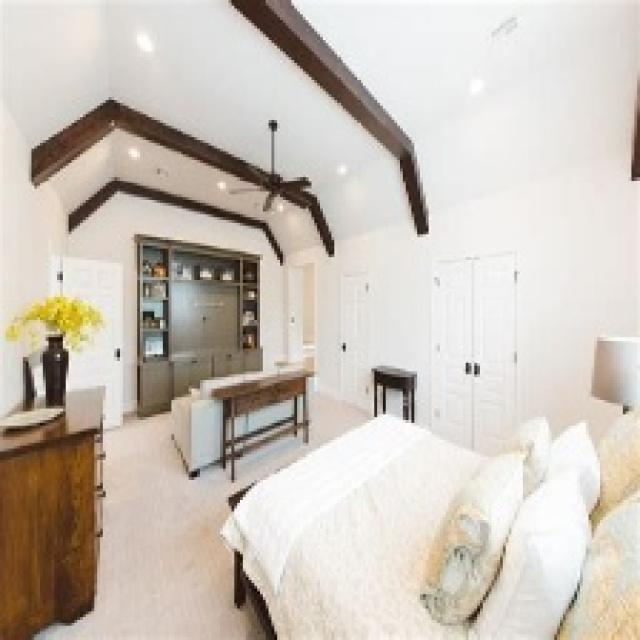Bed: (217, 397, 637, 637)
